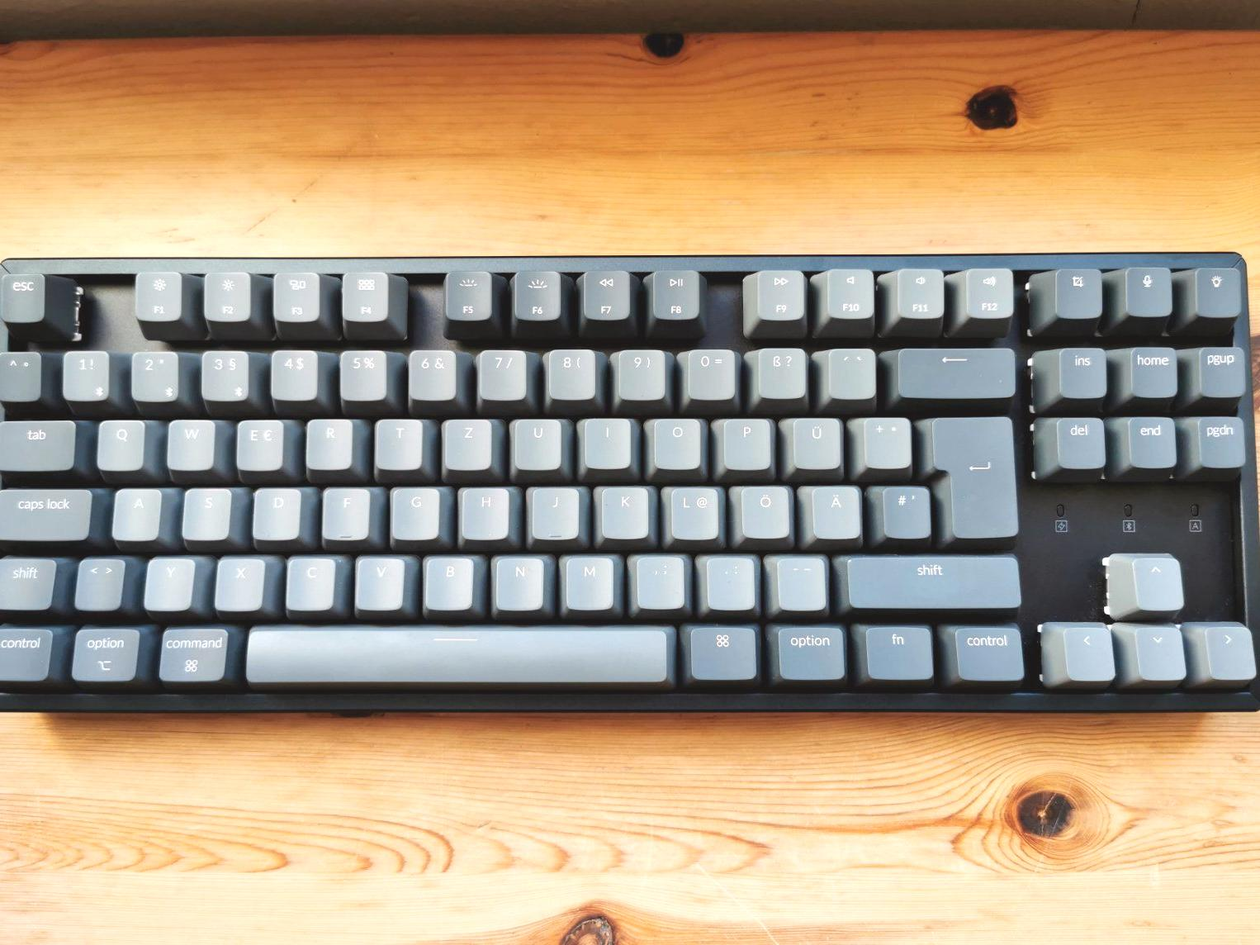0: (682, 344, 736, 399)
1: (59, 346, 109, 400)
2: (128, 347, 178, 401)
3: (198, 346, 249, 400)
4: (268, 346, 318, 398)
5: (338, 346, 387, 400)
6: (406, 345, 457, 399)
7: (477, 346, 528, 399)
8: (545, 345, 596, 398)
9: (613, 345, 666, 399)
a: (110, 484, 160, 539)
accent: (823, 344, 875, 397)
ae: (807, 481, 860, 538)
alt-left: (69, 624, 143, 681)
altgr-right: (776, 625, 850, 683)
b: (421, 551, 474, 608)
c: (283, 552, 334, 609)
caret: (1, 348, 40, 400)
comma: (629, 550, 684, 608)
d: (249, 483, 301, 539)
del: (891, 343, 1014, 397)
e: (233, 415, 283, 469)
enter: (926, 411, 1017, 538)
f: (320, 483, 370, 539)
g: (388, 482, 439, 539)
h: (457, 482, 510, 539)
hash: (878, 482, 929, 537)
i: (579, 413, 632, 468)
j: (526, 482, 580, 539)
k: (595, 482, 650, 538)
keyboard: (1, 246, 1260, 724)
l: (664, 482, 719, 539)
less: (72, 553, 125, 608)
m: (559, 551, 614, 609)
minus: (770, 550, 825, 609)
n: (490, 552, 544, 609)
o: (647, 413, 701, 468)
oe: (736, 481, 790, 538)
p: (717, 413, 771, 468)
plus: (856, 411, 910, 468)
point: (701, 551, 755, 608)
q: (93, 415, 144, 469)
r: (304, 415, 353, 468)
s: (179, 484, 230, 539)
shift-left: (1, 553, 55, 608)
shift-lock: (1, 483, 92, 539)
shift-right: (834, 549, 1021, 606)
space: (237, 620, 671, 683)
ss: (752, 344, 806, 397)
strg-left: (1, 623, 53, 680)
strg-right: (946, 622, 1025, 679)
t: (372, 414, 423, 468)
tab: (1, 416, 75, 469)
u: (509, 414, 562, 469)
ue: (786, 412, 841, 468)
v: (353, 552, 405, 608)
w: (163, 415, 214, 469)
x: (212, 553, 264, 610)
y: (142, 553, 195, 609)
z: (441, 414, 492, 468)
